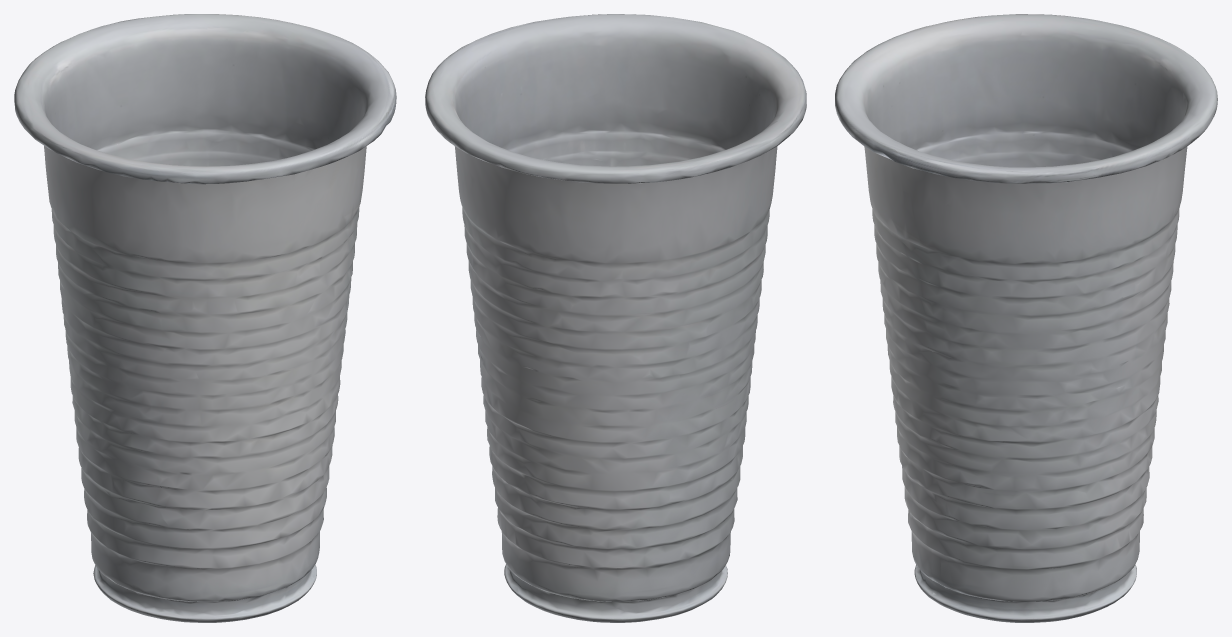
File: VasoPlasticoModel.glb
The picture shows the model from 3 angles, left to right: view 1: azimuth 30°, elevation 25°; view 2: azimuth 150°, elevation 25°; view 3: azimuth 270°, elevation 25°; orthographic projection.
Visible parts, largest first — view 1: tripo_node_6ee13fe0-b7e5-42cf-bf96-bbbc60ed6ca7; view 2: tripo_node_6ee13fe0-b7e5-42cf-bf96-bbbc60ed6ca7; view 3: tripo_node_6ee13fe0-b7e5-42cf-bf96-bbbc60ed6ca7.
Part boxes in pixels (x1,y1,x2,y2): tripo_node_6ee13fe0-b7e5-42cf-bf96-bbbc60ed6ca7: [14, 14, 396, 622]; tripo_node_6ee13fe0-b7e5-42cf-bf96-bbbc60ed6ca7: [425, 14, 806, 622]; tripo_node_6ee13fe0-b7e5-42cf-bf96-bbbc60ed6ca7: [835, 14, 1217, 622].
Bounding box in the file's own units: 0.7098 × 1 × 0.71.
1 material, 1 textured.
